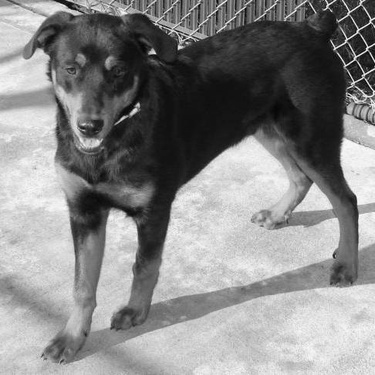dog: (19, 6, 363, 368)
